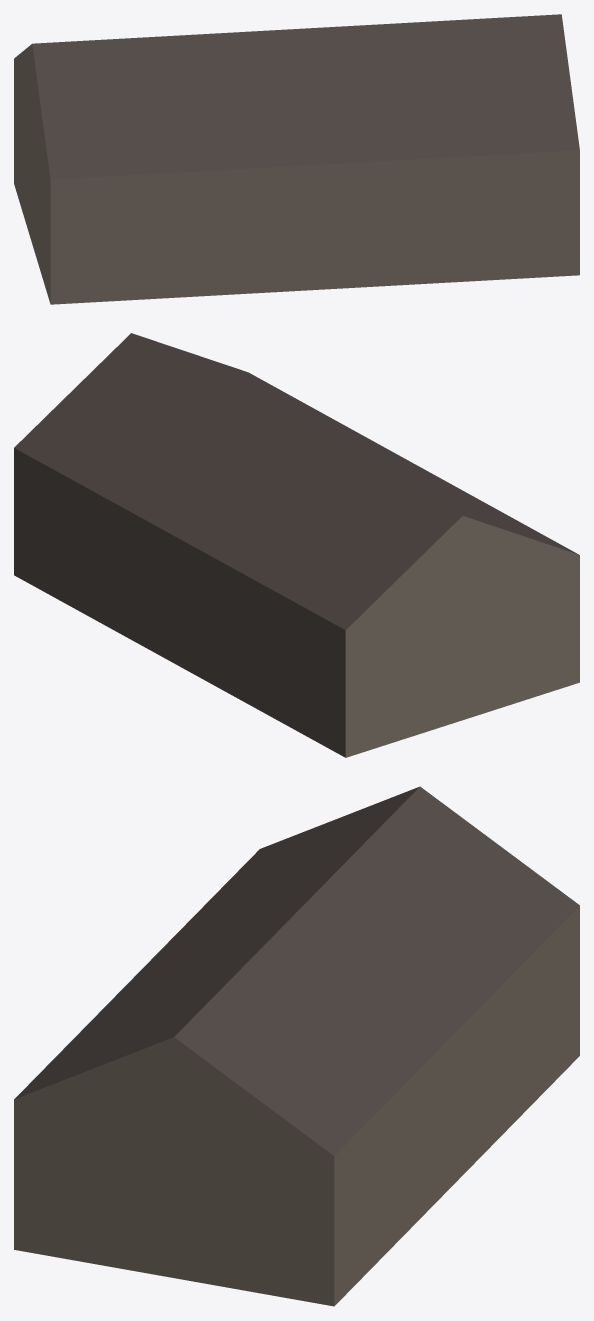
The picture shows the model from 3 angles, top to bottom: view 1: azimuth 30°, elevation 25°; view 2: azimuth 150°, elevation 25°; view 3: azimuth 270°, elevation 25°; orthographic projection. The views are drawn at different scales.
Visible parts, largest first — view 1: HP-w859457434; view 2: HP-w859457434; view 3: HP-w859457434.
Boxes of the visible parts, left/top/right/bottom form: HP-w859457434: left=14, top=14, right=579, bottom=304; HP-w859457434: left=14, top=333, right=579, bottom=757; HP-w859457434: left=14, top=786, right=579, bottom=1306.
Size of the model in its own units: 26.33 by 9.63 by 20.49.
